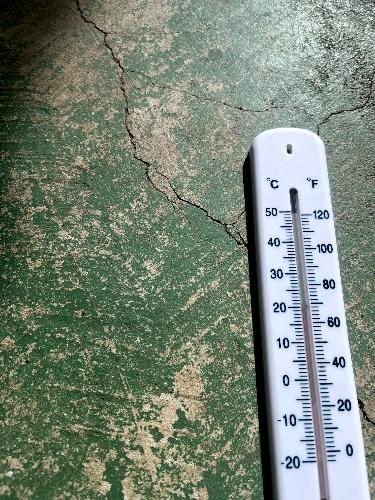thermo: (253, 125, 371, 500)
